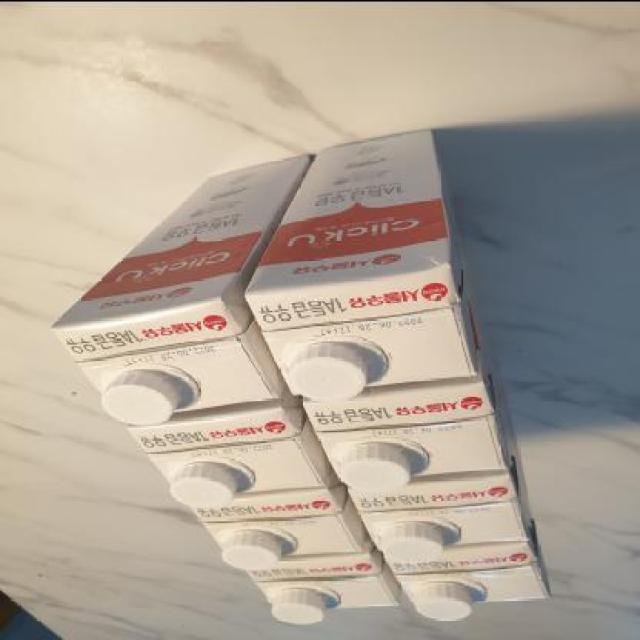tetra: (35, 128, 294, 426), (248, 115, 508, 397)
